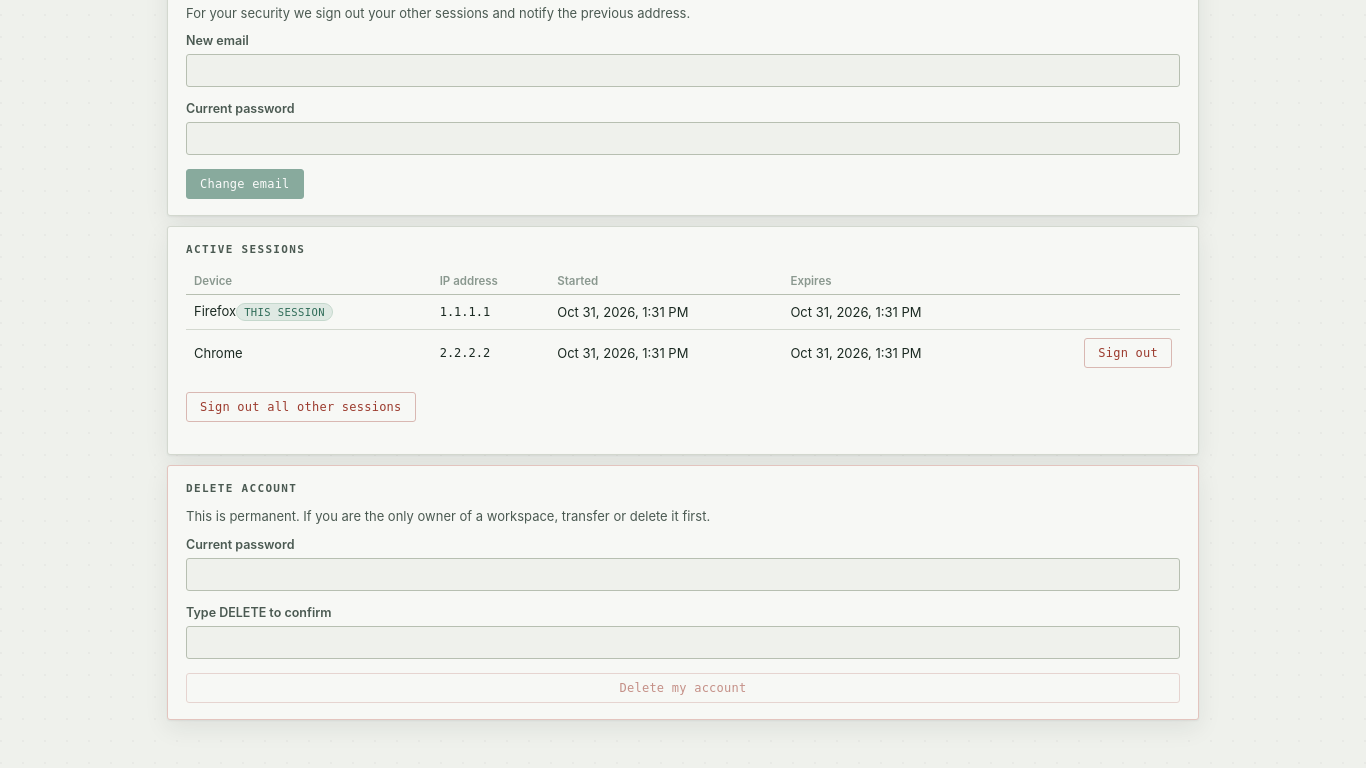
Test: AccountPage › keeps account deletion disabled until the confirmation word is typed
(page scrolled)
Expected: the text "Firefox" is shown, [194, 303, 236, 319]
Expected: the button "Delete my account" is disabled, [186, 673, 1180, 703]
Type "pw" into the password field labelled "Current password" below "Delete account". click: (683,574)
box: [186, 558, 1180, 591]
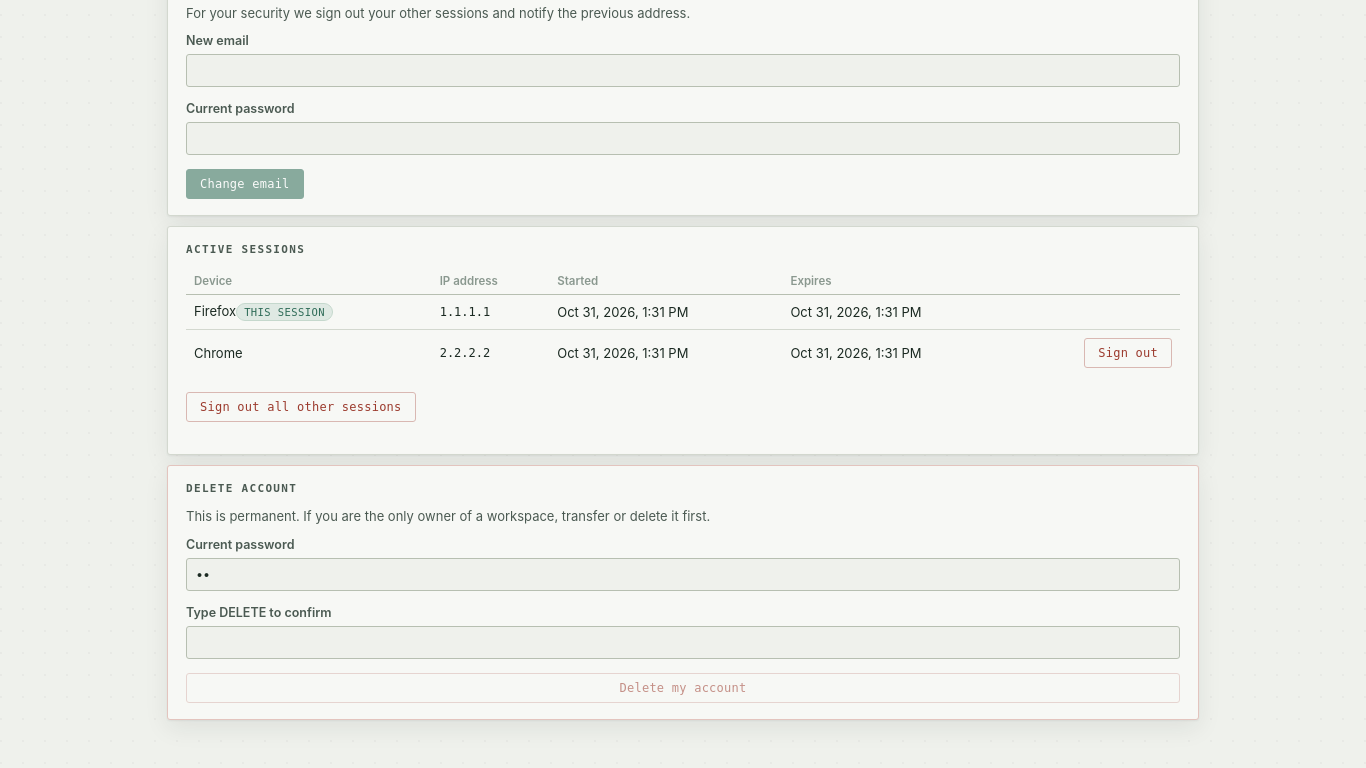
Type "DELETE" into the field labelled "Type DELETE to confirm". click: (683,642)
box: [186, 626, 1180, 659]
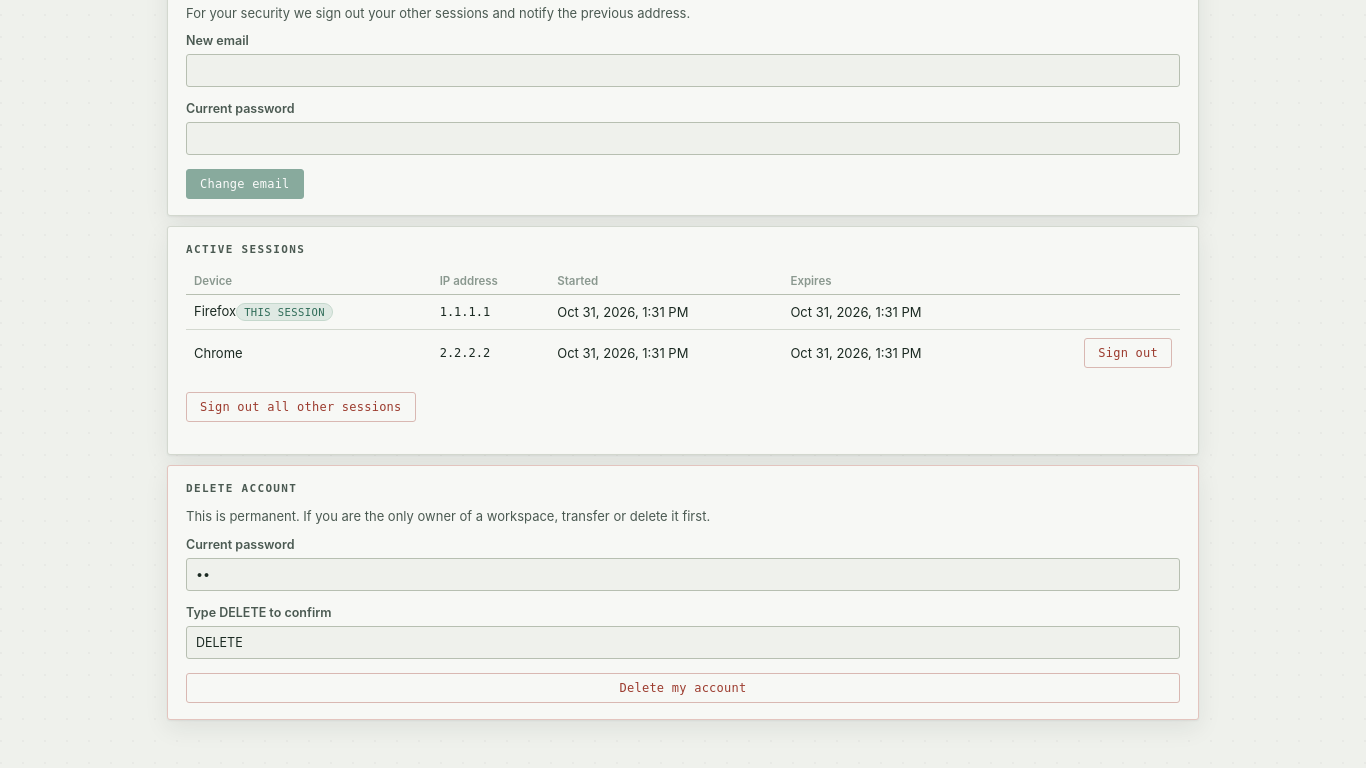
Expected: the button "Delete my account" is enabled, [186, 673, 1180, 703]
